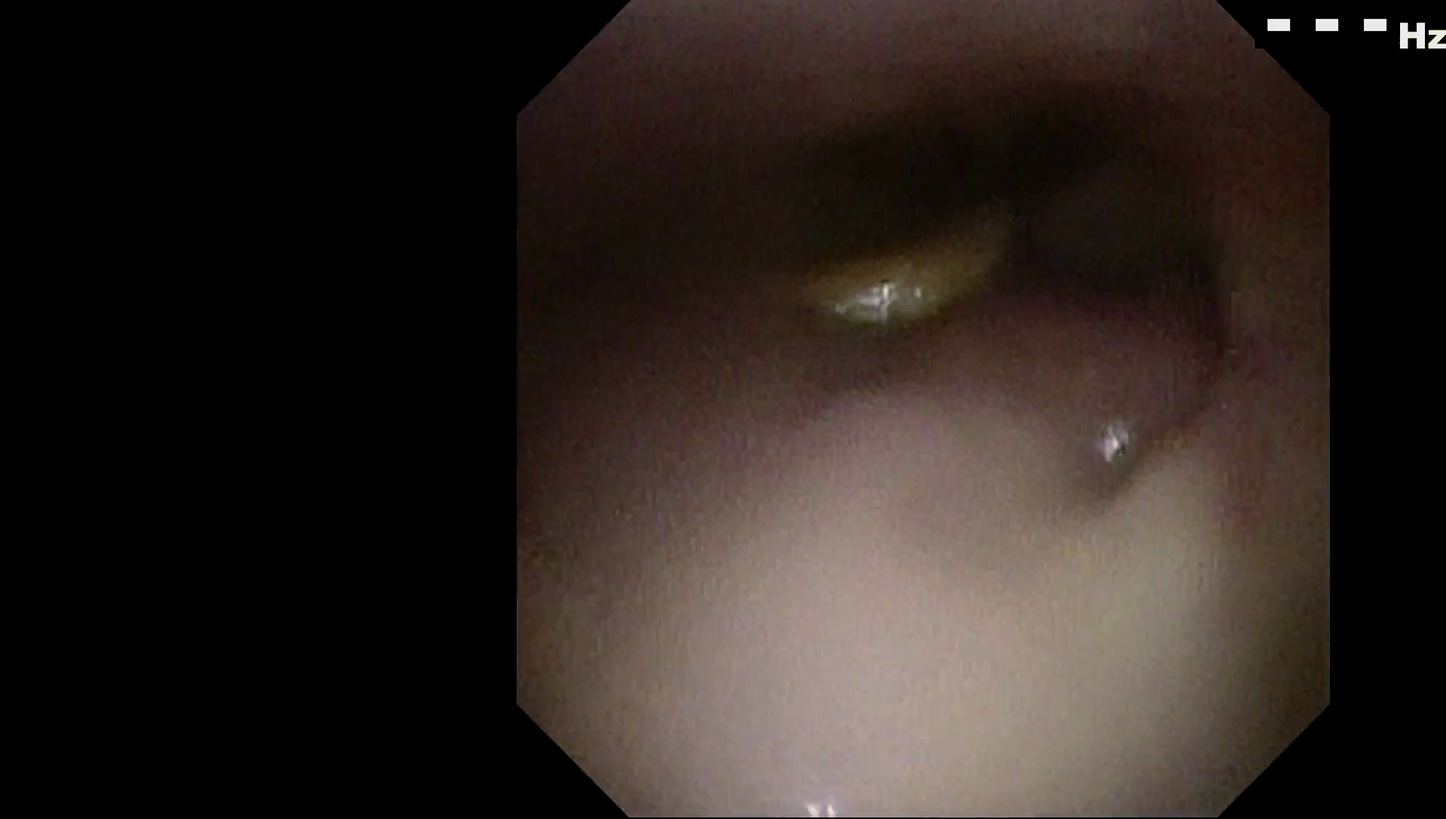next: (831, 83, 1154, 255), (1010, 197, 1269, 324)
